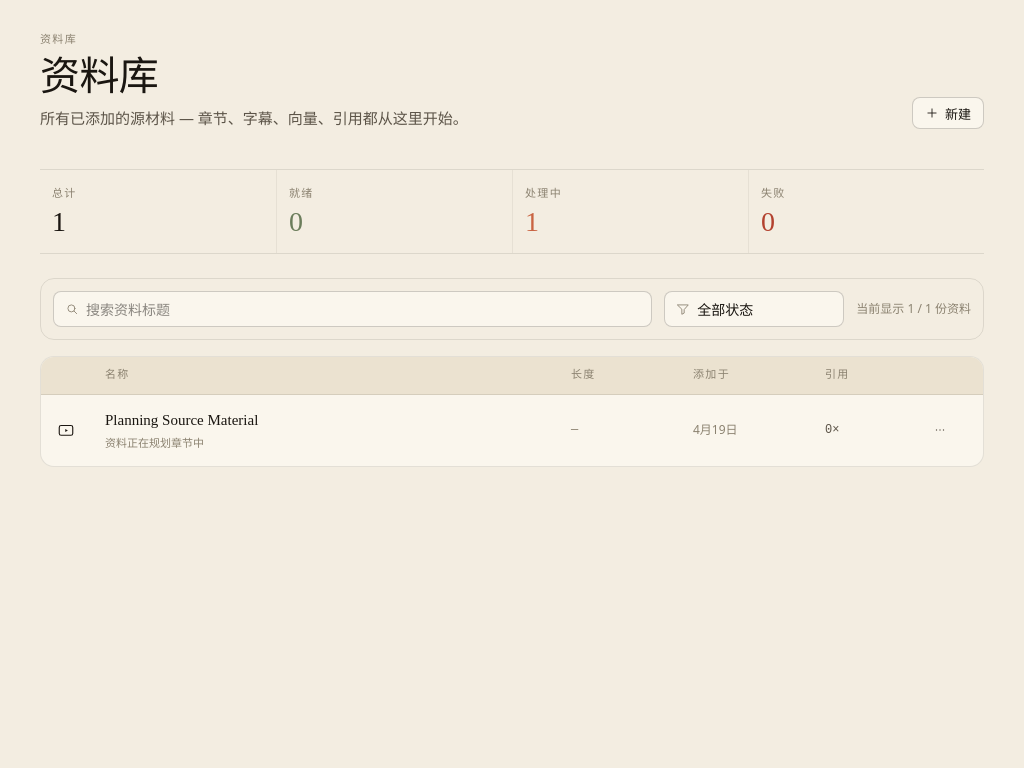
/sources page › shows source section planning as an in-order processing step
Expected: the text "资料正在规划章节中" is shown, 105,435 -> 204,452
Click the text "Planning Source Material": (182, 420) 105,412 -> 258,428
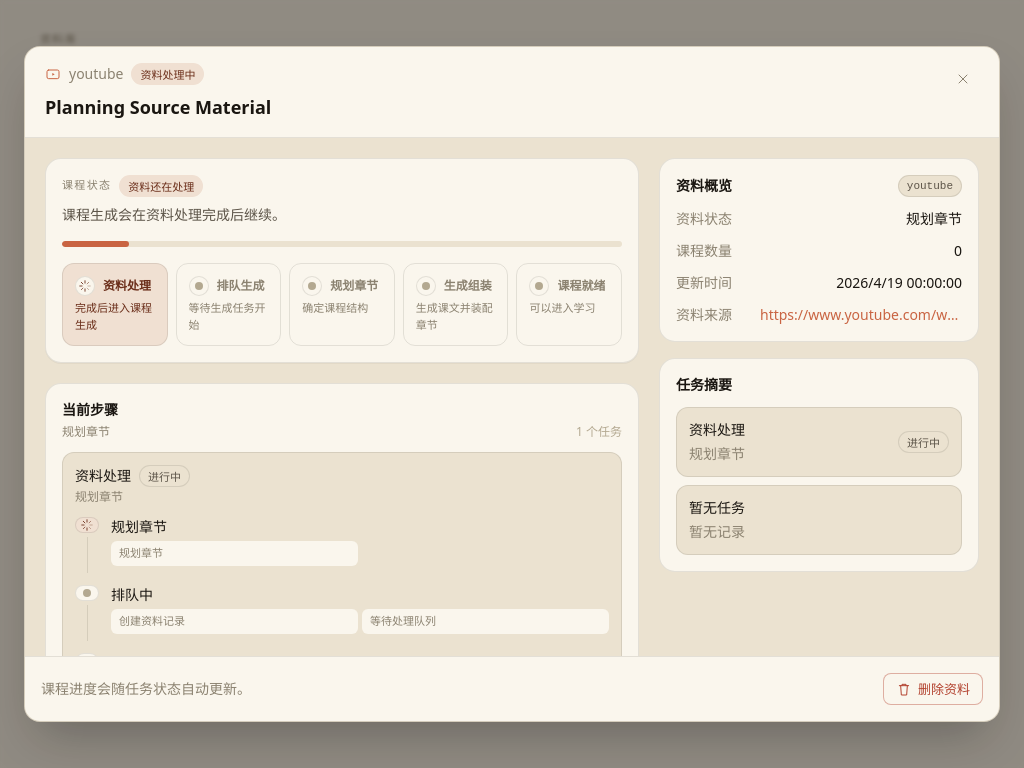
Result: the text "规划章节" next to "排队生成" is shown at 330,277 -> 378,294
